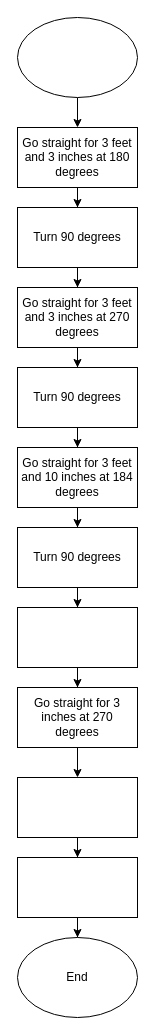
The diagram is 155 pixels wide and 1035 high, and some of its shapes have lost their labels. The box of each missing label's shape, as (x1, y1, x2, y2) in pixels:
Go straight for 7 feet and 2 inches at 275 degrees: (16, 606, 138, 668)
Go straight for 9 feet and 1 inch at 45 degrees: (16, 856, 138, 918)
Start: (16, 16, 138, 98)
Turn 45 degrees: (16, 776, 138, 838)
